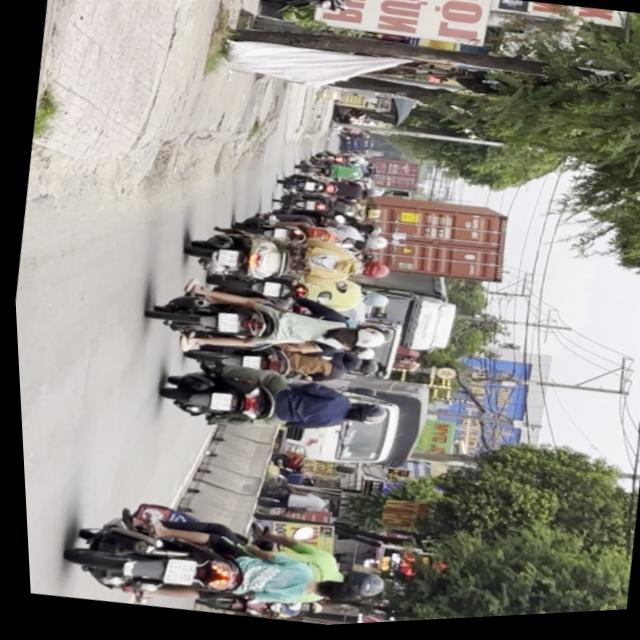helmet: (333, 571, 382, 606), (343, 405, 385, 433), (344, 328, 385, 356), (350, 262, 390, 287), (349, 361, 378, 383)
licenseplate: (47, 484, 389, 639), (139, 271, 394, 380), (149, 354, 389, 459), (179, 218, 393, 308), (178, 327, 382, 402)
motorcyclist: (304, 580, 350, 610)
nohelmet: (156, 560, 190, 589), (211, 313, 239, 338), (203, 394, 228, 415), (213, 250, 235, 270), (236, 357, 258, 374)
